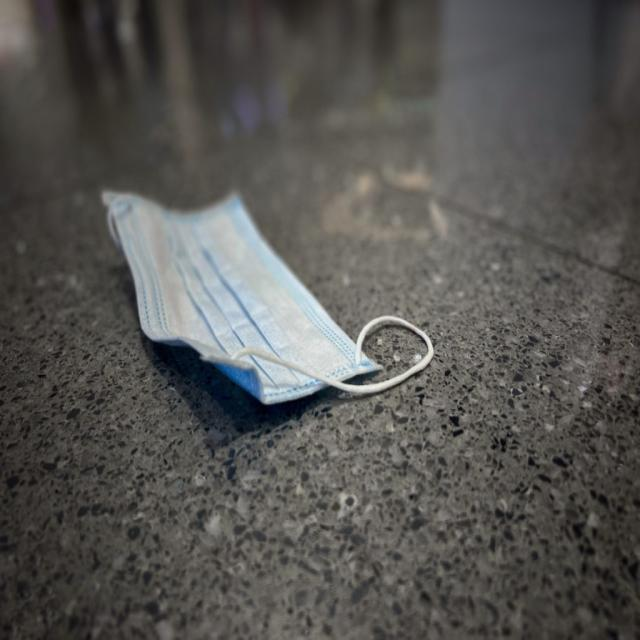face_mask: (89, 158, 442, 421)
